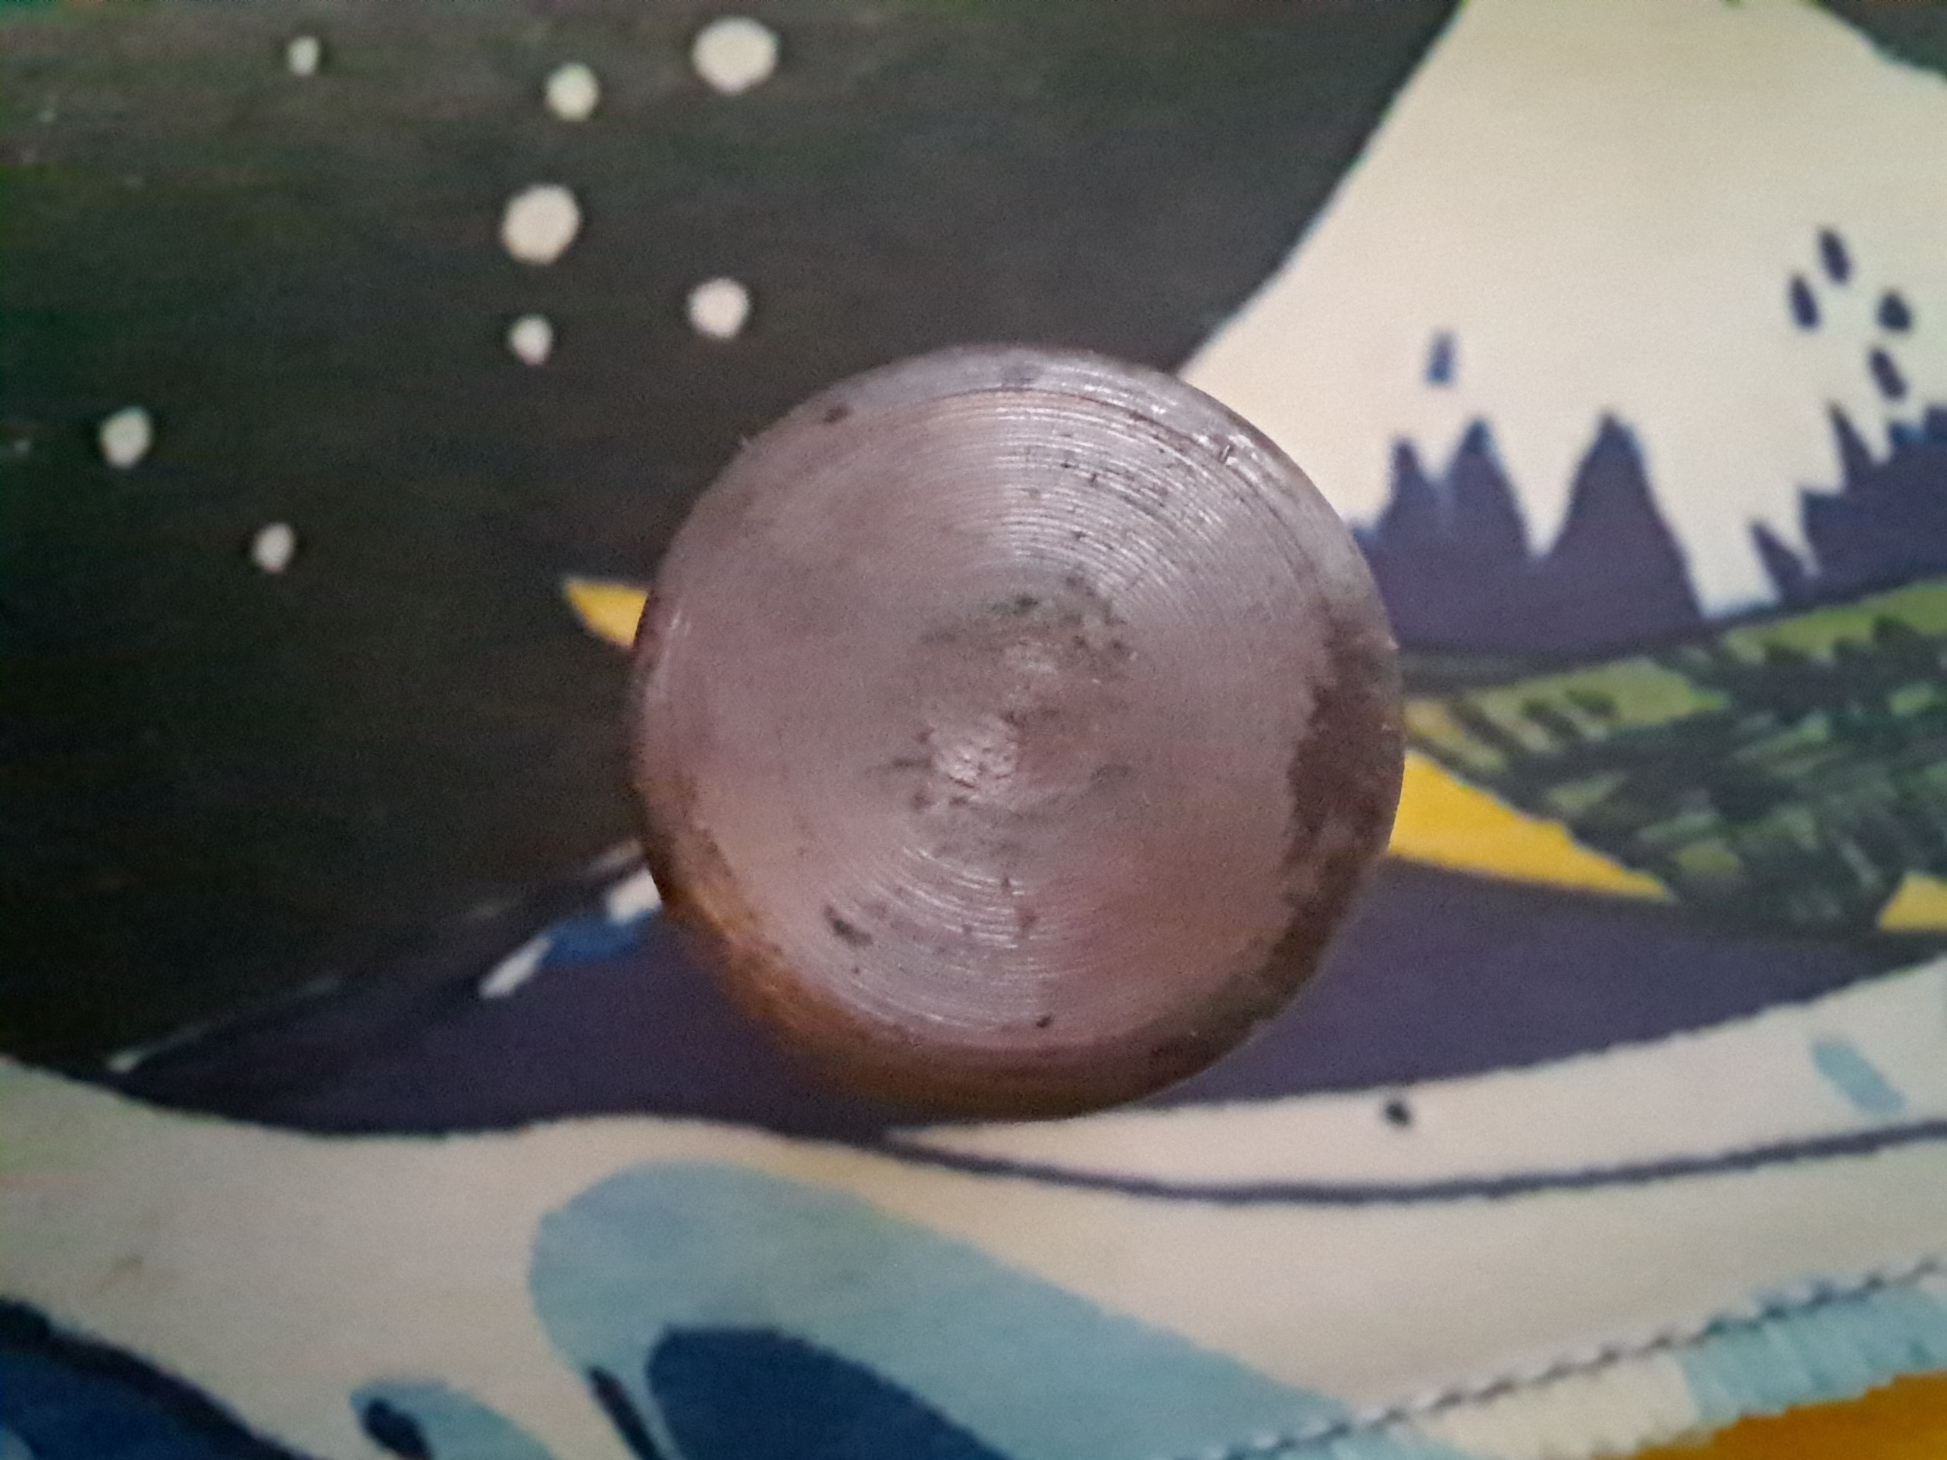плансон: (612, 344, 1409, 1133)
